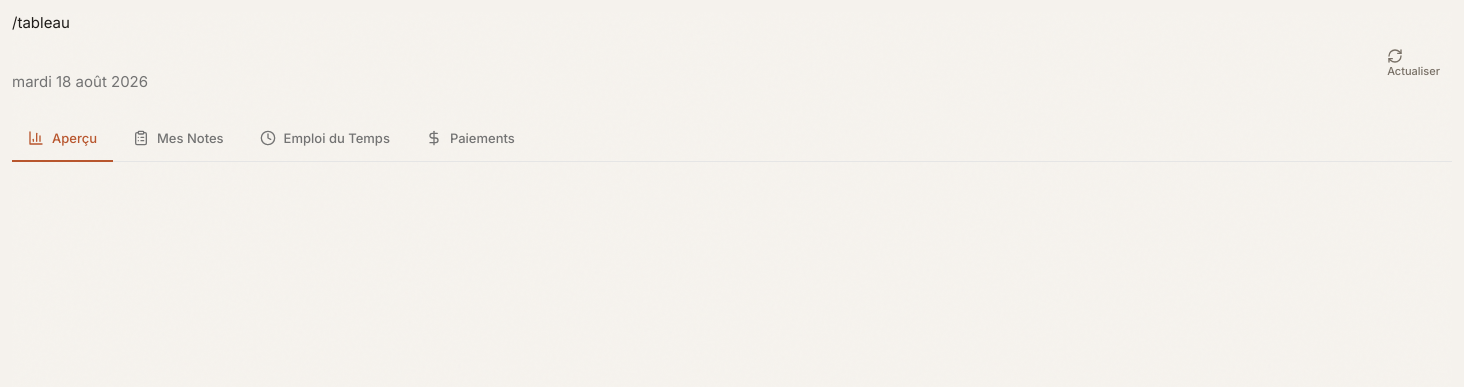
Test: EleveDashboard › affiche « Aucune note disponible » dans l’onglet Notes quand la liste est vide
Click the button "Mes Notes". click: (178, 139)
box: top-left (117, 117), bottom-right (240, 162)
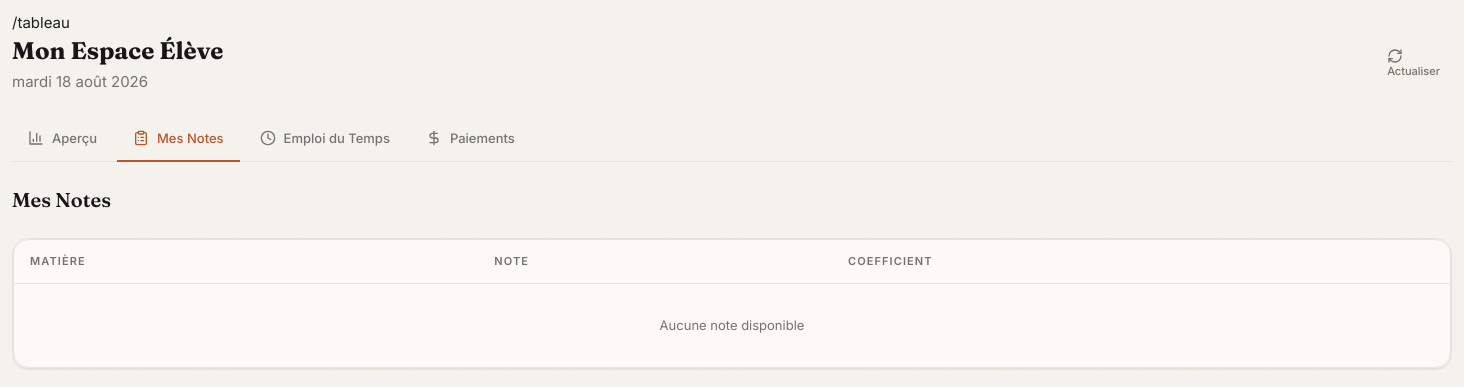
Expected: the text "Aucune note disponible" is shown, top-left (14, 284), bottom-right (1450, 367)
